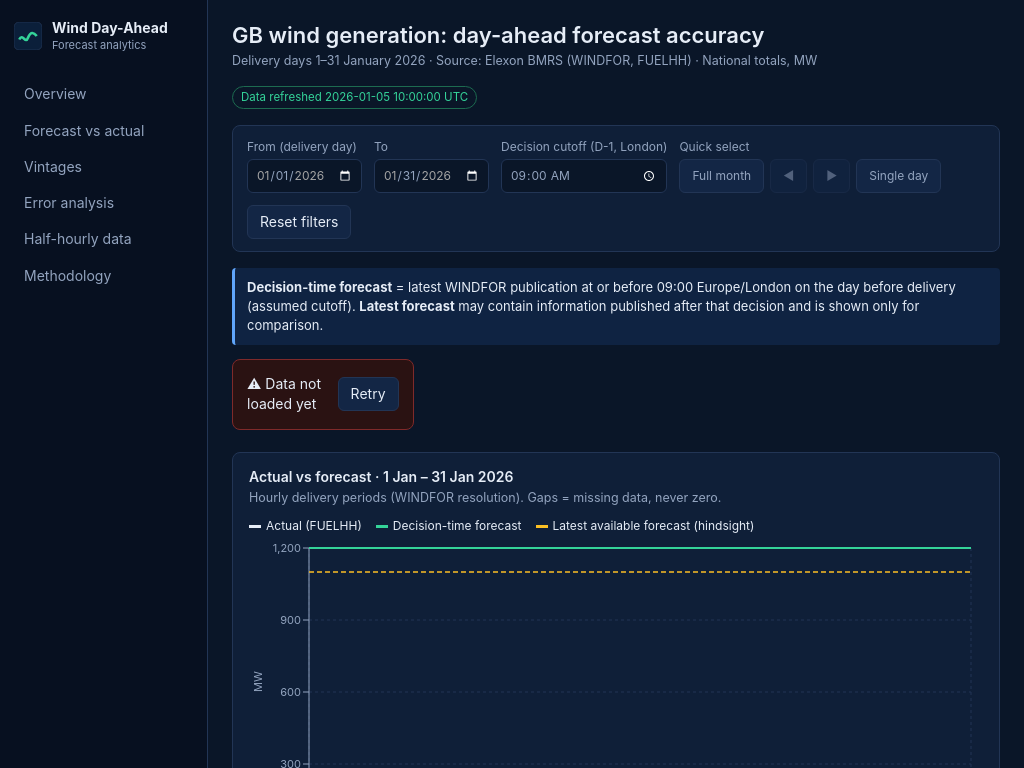
Test: Dashboard › shows API error and retries successfully
This screenshot has width=1024, height=768.
Check: the text "⚠ Data not loaded yet" is shown, box left=247, top=374, right=326, bottom=414
Click the button "Retry" at (368, 394), box left=338, top=377, right=398, bottom=411
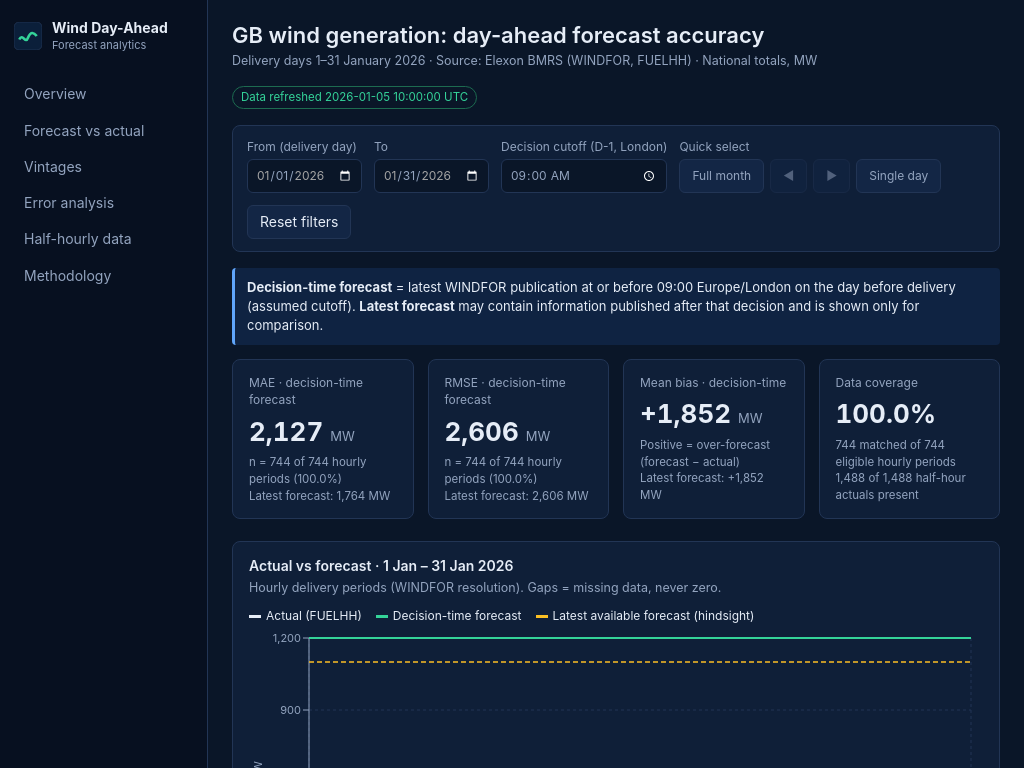
Check: the element "MAE" is shown, box left=232, top=359, right=414, bottom=519
